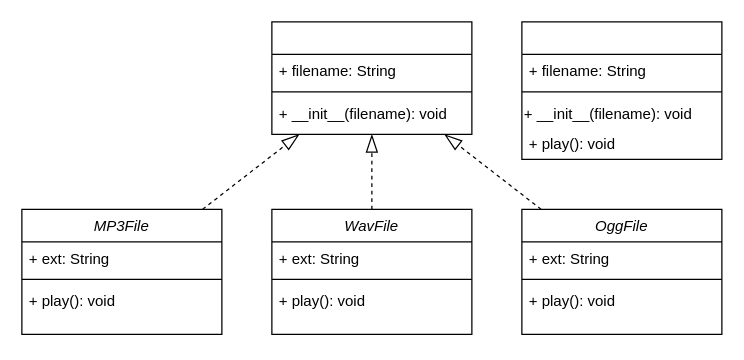
The diagram is 744 pixels wide and 360 high, and some of its shapes have lost their labels. Here are the shapes that lost their labels. From the top down, the box of each, then its label:
(271, 21, 472, 134): AudioFile
(521, 21, 722, 159): FlacFile
